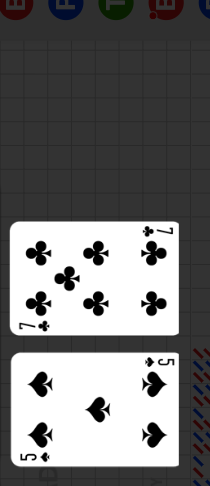5S: (19, 451, 52, 463)
7C: (140, 224, 175, 239)
